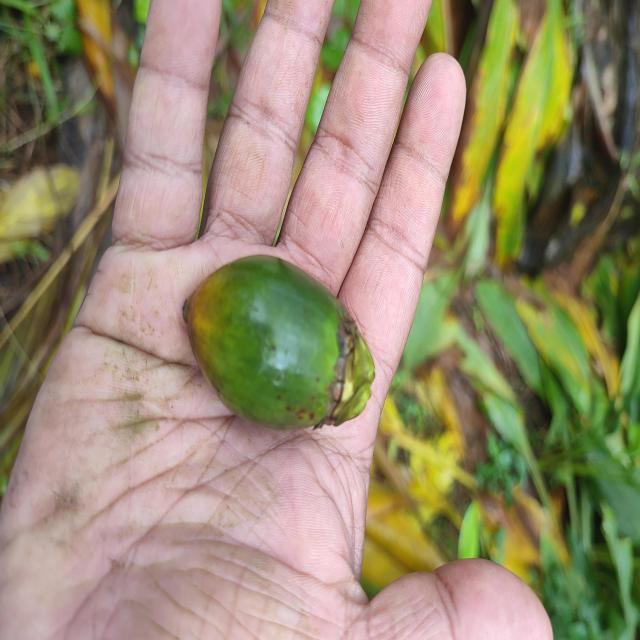good: (180, 255, 376, 431)
